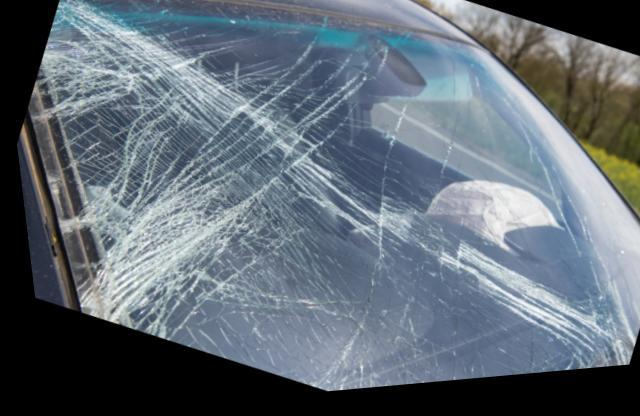glass shatter: (23, 0, 640, 397)
